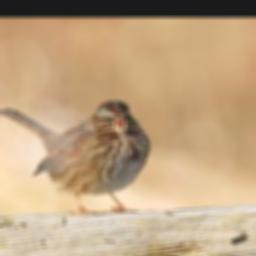Sparrow: (0, 98, 148, 214)
